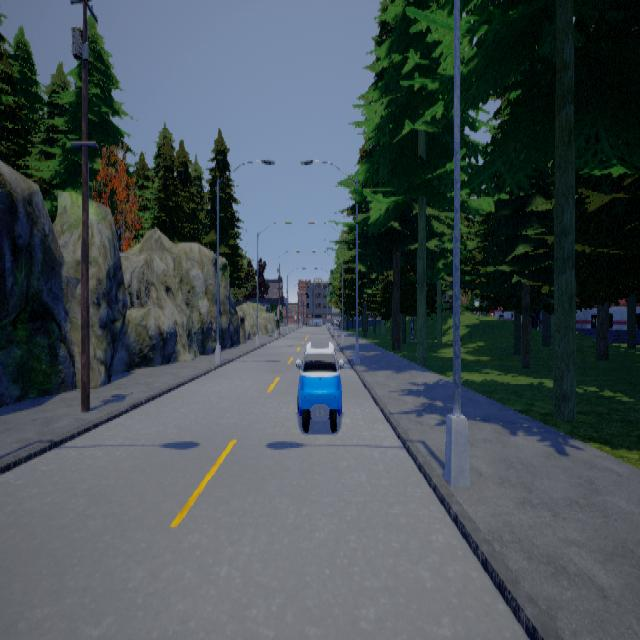vehicle: (295, 339, 341, 431)
